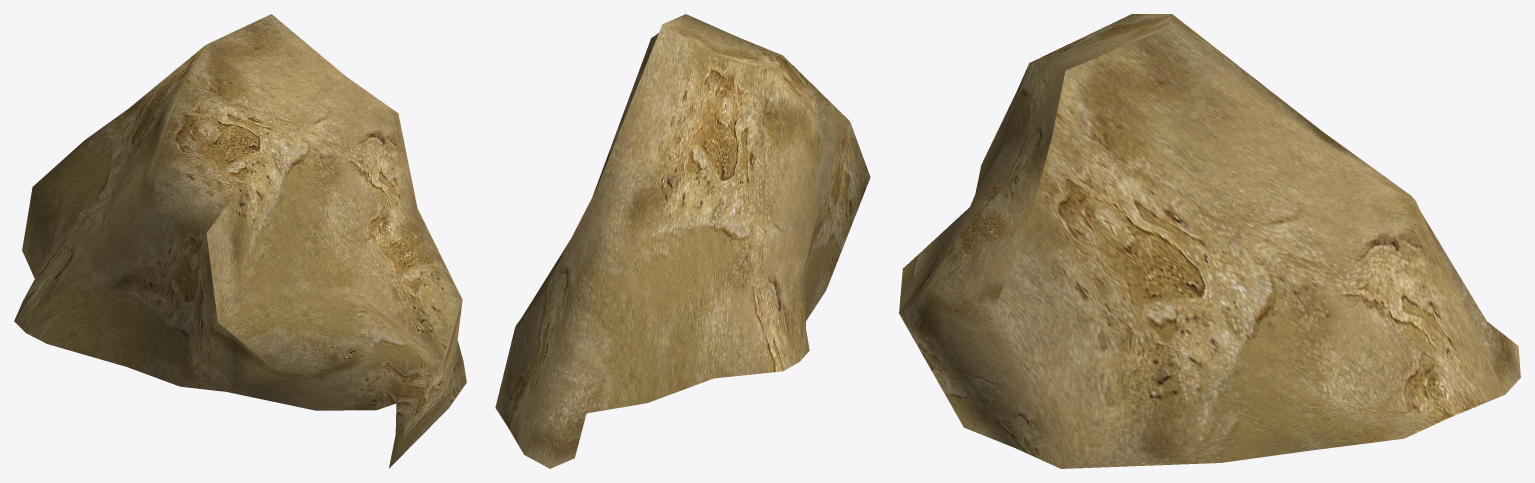
The model's file is rock_caveC_sphere.fbx.
3 views of the same model, side by side, from view 1: azimuth 30°, elevation 25°; view 2: azimuth 150°, elevation 25°; view 3: azimuth 270°, elevation 25° (orthographic). The views are drawn at different scales.
Visible parts, largest first — view 1: cave_barbossa; view 2: cave_barbossa; view 3: cave_barbossa.
Part boxes in pixels (x1,y1,x2,y2): cave_barbossa: (14,14,466,468); cave_barbossa: (495,14,870,468); cave_barbossa: (899,14,1520,468).
Size of the model in its own units: 2318 by 2486 by 3582.
Materials: 1 (1 with a texture image).
